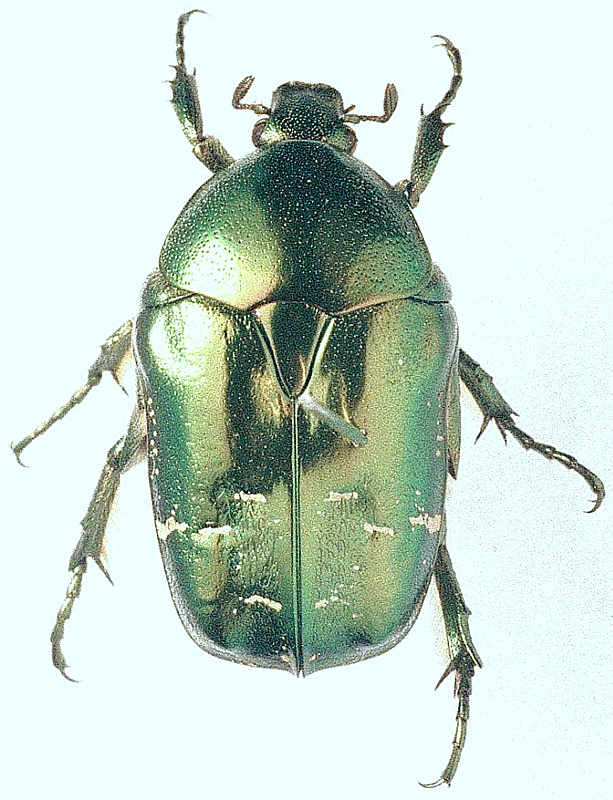Protaetia_fieberi: (6, 1, 604, 794)
